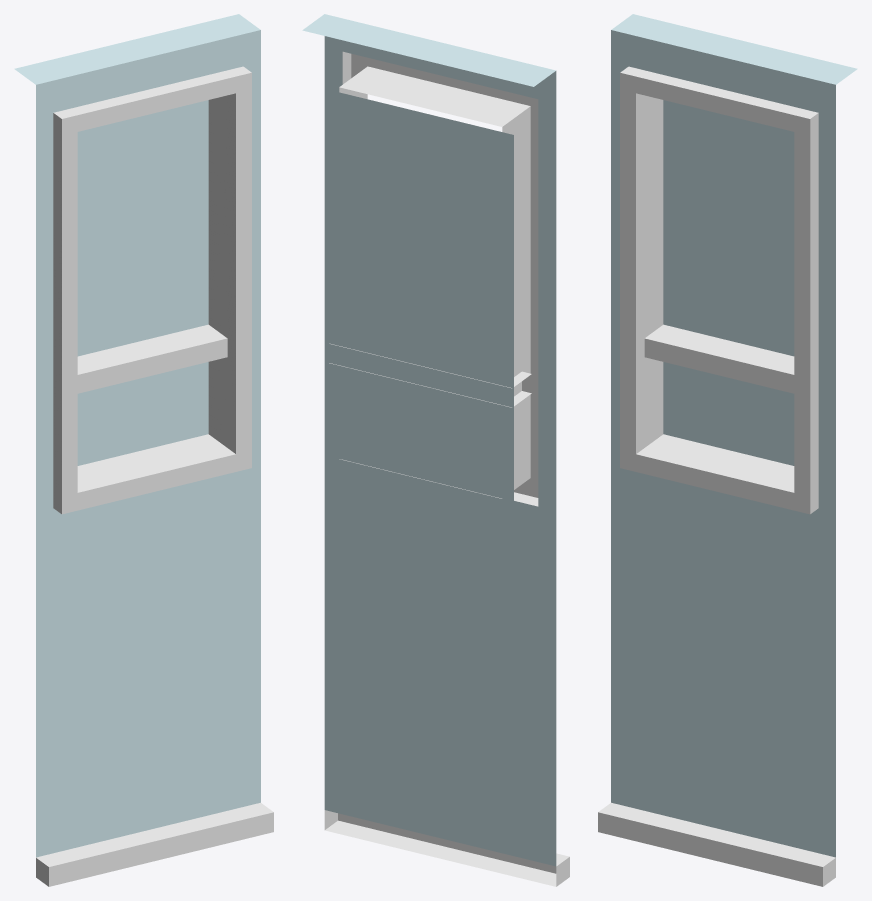
The model's file is 25_wall(window).FBX.
3 renders of one model, left to right at view 1: azimuth 30°, elevation 25°; view 2: azimuth 150°, elevation 25°; view 3: azimuth 330°, elevation 25°, orthographic. The views are drawn at different scales.
Visible parts, largest first — view 1: 25_wall(window)_sky blue, 25_wall(light)_sky blue; view 2: 25_wall(light)_sky blue, 25_wall(window)_sky blue; view 3: 25_wall(window)_sky blue, 25_wall(light)_sky blue.
Part boxes in pixels (x1,y1,x2,y2): 25_wall(window)_sky blue: (14,14,273,886); 25_wall(light)_sky blue: (77,100,208,465); 25_wall(light)_sky blue: (327,89,513,704); 25_wall(window)_sky blue: (302,14,569,886); 25_wall(window)_sky blue: (598,14,857,886); 25_wall(light)_sky blue: (663,100,794,465).
Bounding box in the file's own units: 128 × 432 × 34.47.
